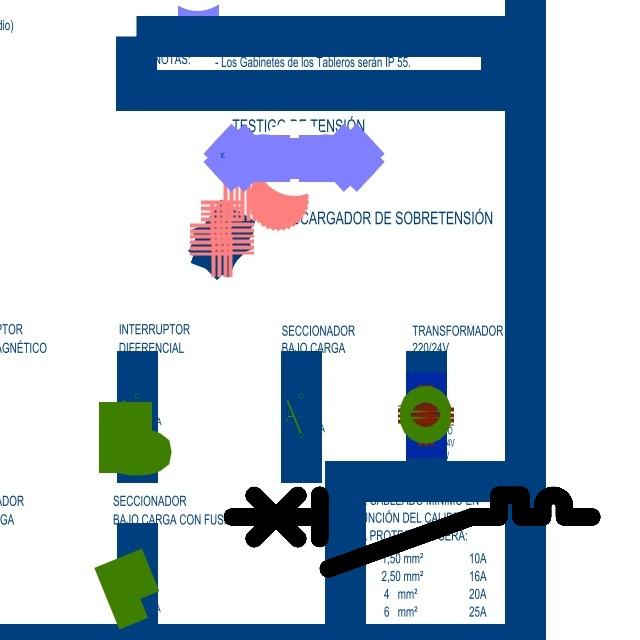interruptor_termomagnetico: (223, 486, 601, 578)
